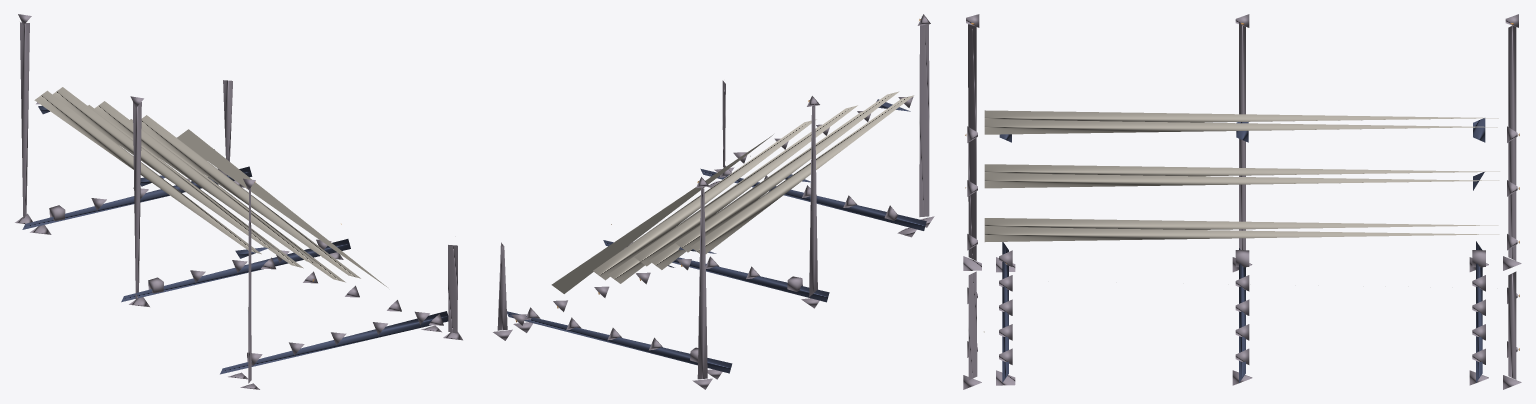
3 views of the same model, side by side, from view 1: azimuth 30°, elevation 25°; view 2: azimuth 150°, elevation 25°; view 3: azimuth 270°, elevation 25° (orthographic). The views are drawn at different scales.
Size of the model in its own units: 3.52 by 3.11 by 6.25.
